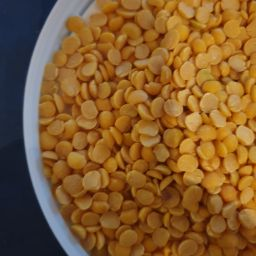Pigeon Pea(toor daal): (51, 1, 256, 256), (88, 38, 255, 198), (72, 58, 232, 210)
